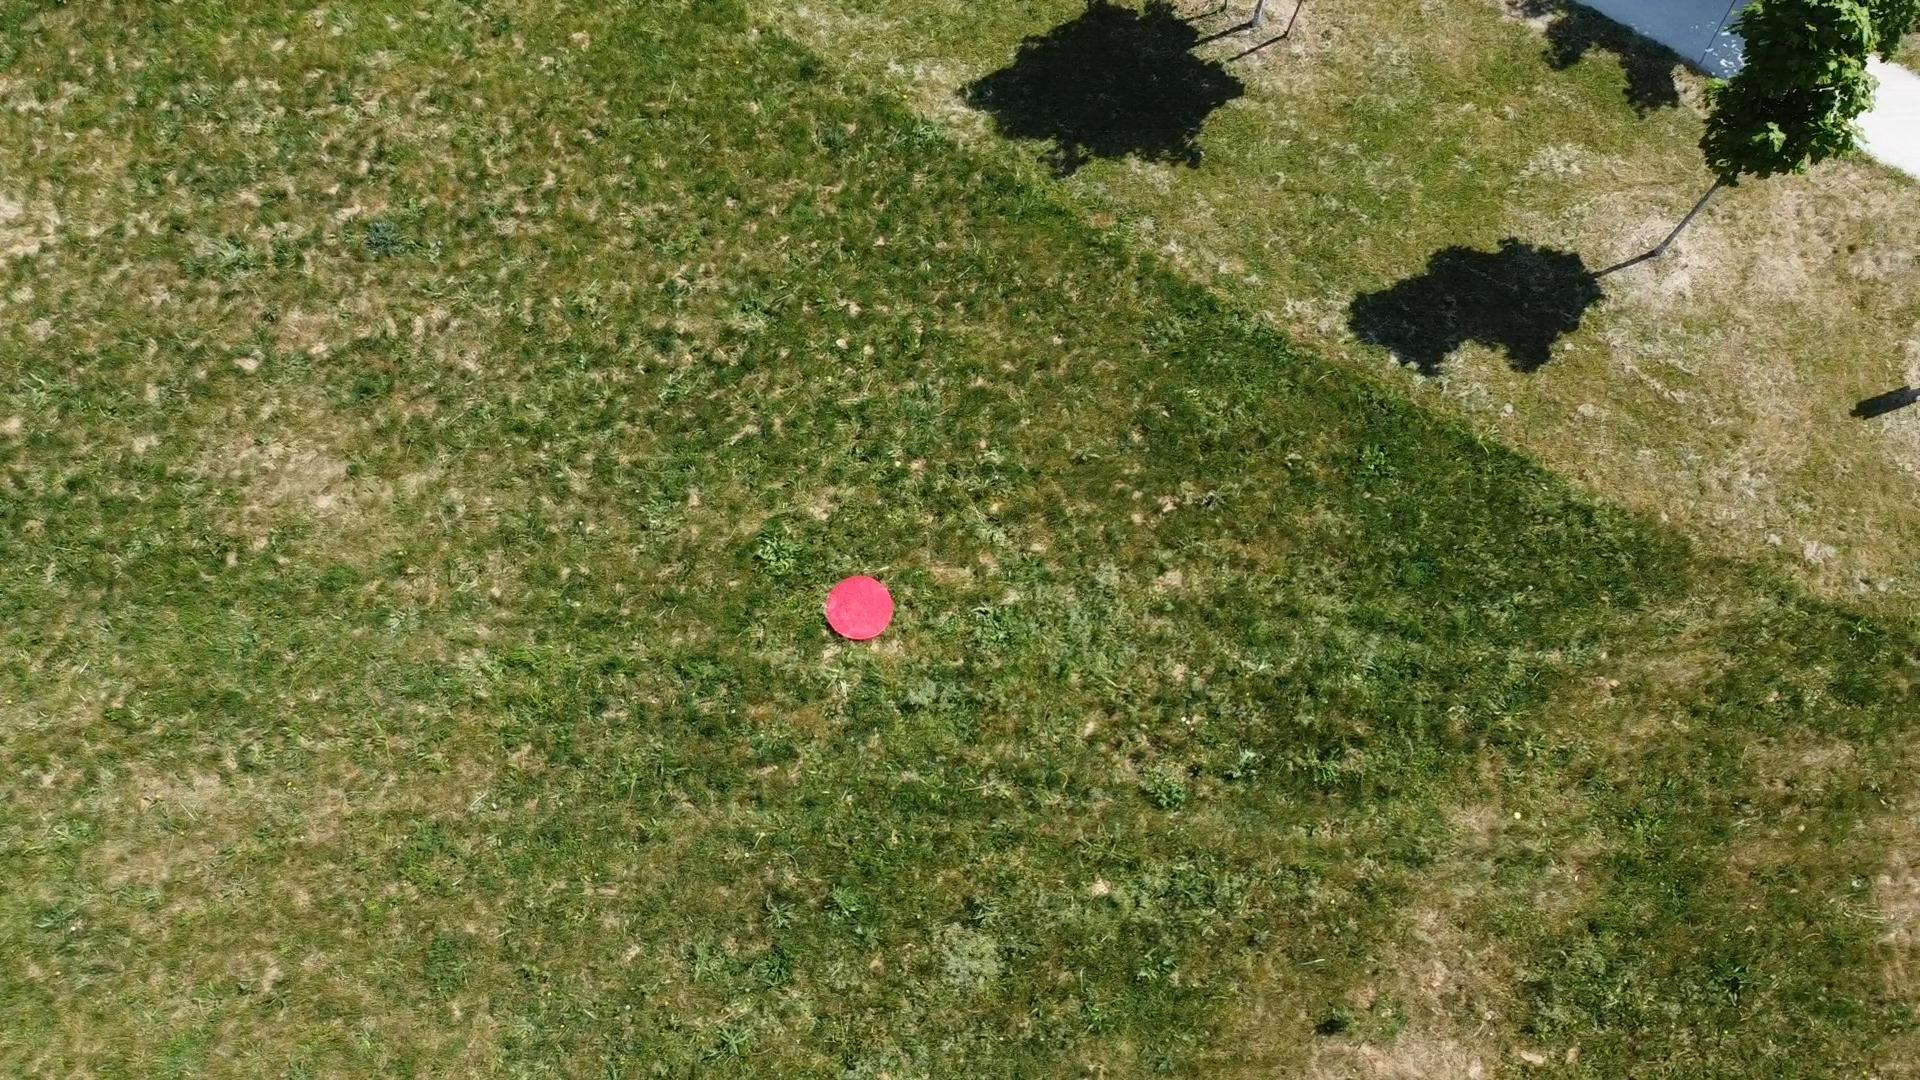Red: (823, 574, 895, 642)
